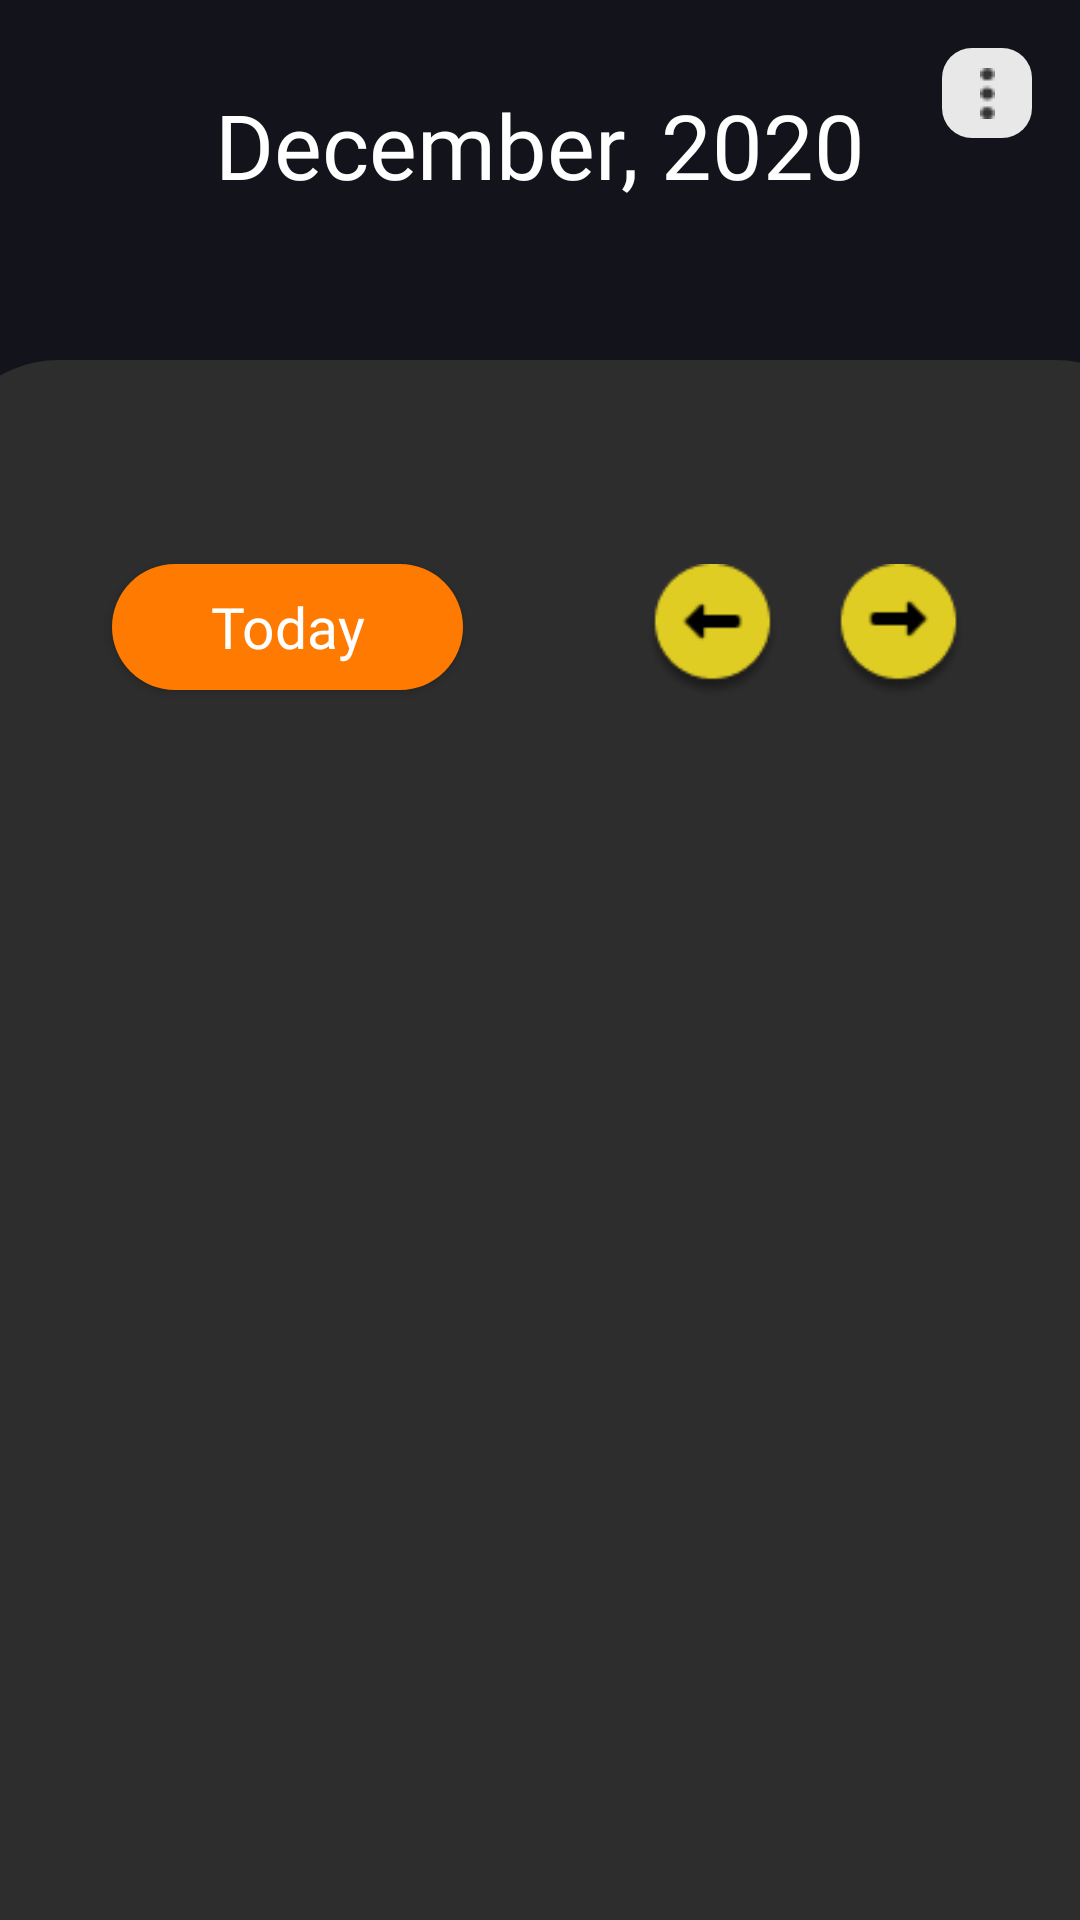

Where to tap for icons on this 1080 × 1920 app screen, as point (x, y):
dots: point (987, 93)
next day arrow: point (898, 621)
previous day arrow: point (712, 621)
